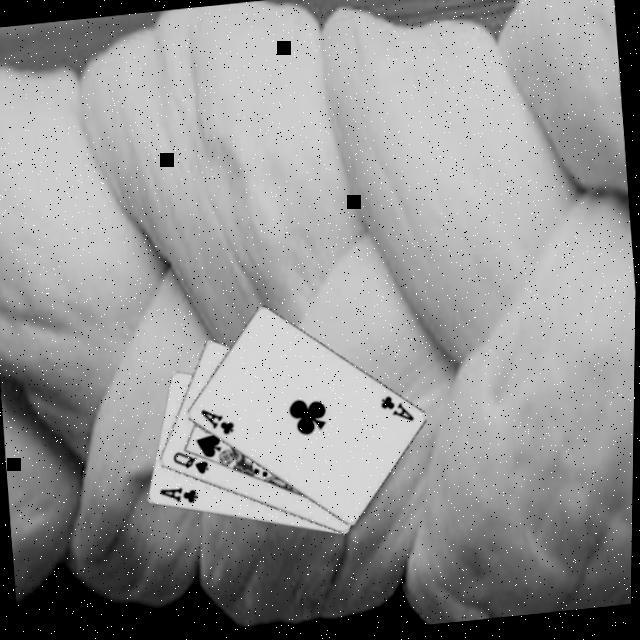AC: (374, 393, 416, 430), (196, 405, 237, 442), (154, 484, 200, 512)
QS: (169, 448, 211, 481)
